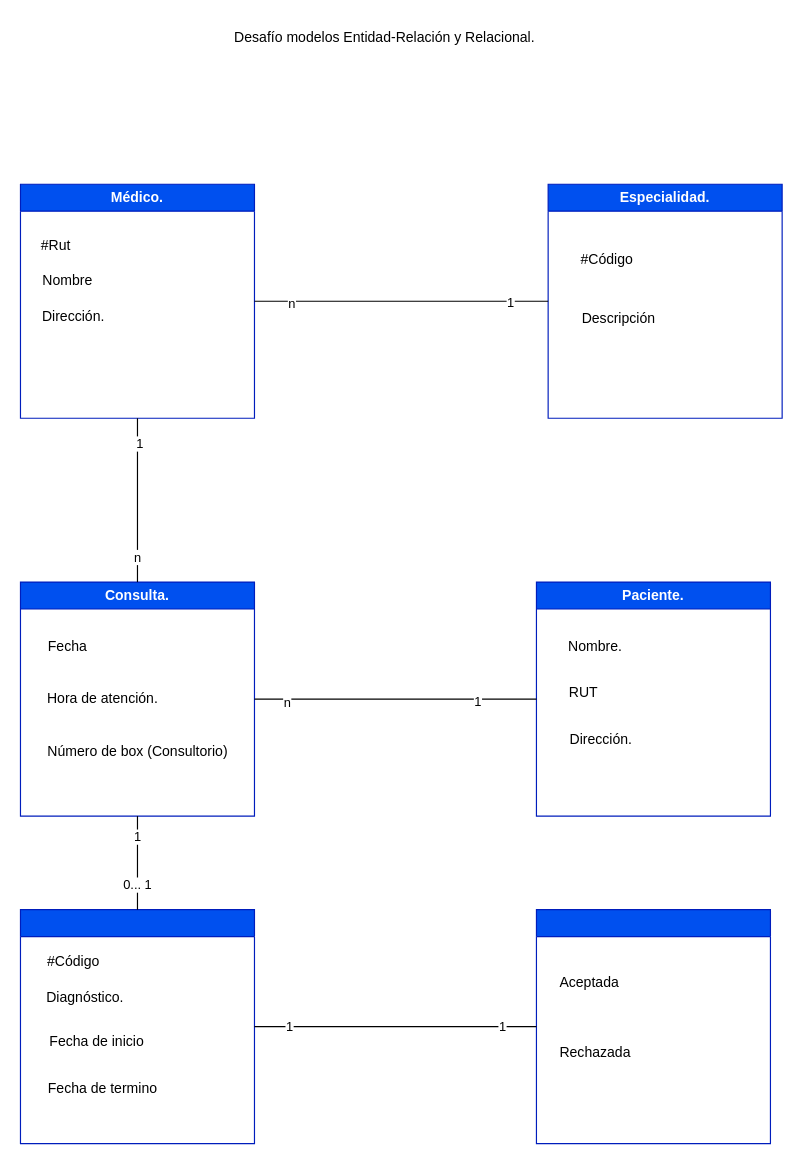
Image size: 803x1164. Some labels were removed from this diagram. The box of each missing label's shape, as (x1, y1, x2, y2) in pixels:
Licencia: (19, 909, 254, 1144)
Validación: (535, 909, 770, 1144)
